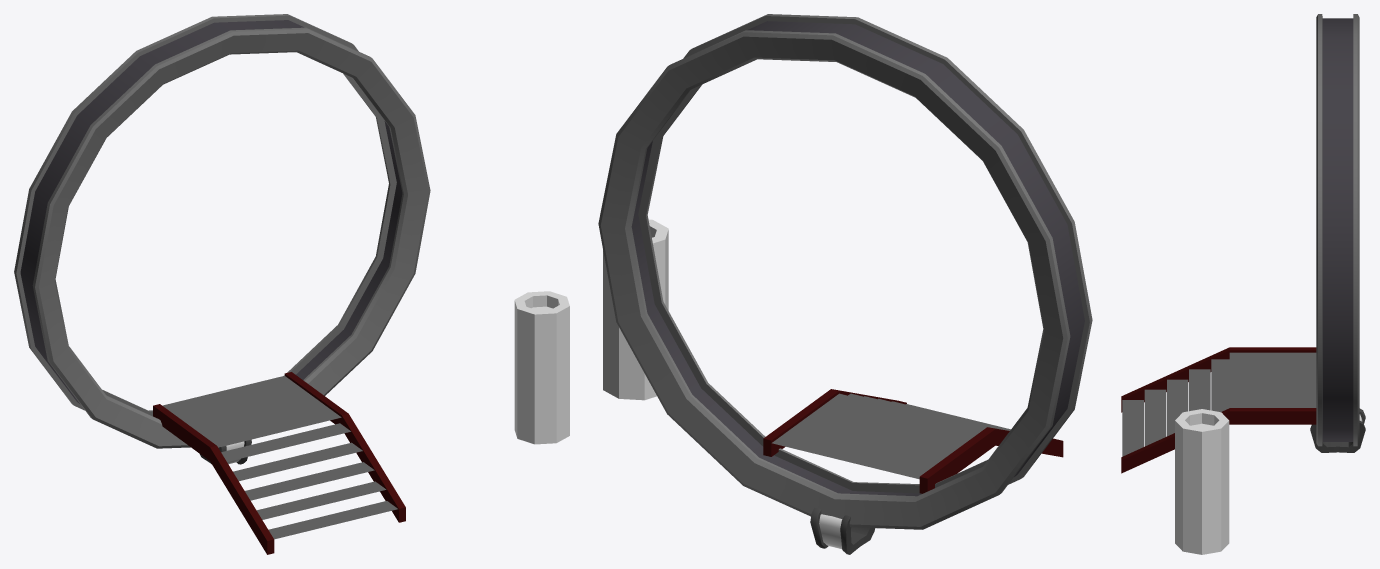
Rendered from Portal.fbx.
3 renders of one model, left to right at view 1: azimuth 30°, elevation 25°; view 2: azimuth 150°, elevation 25°; view 3: azimuth 270°, elevation 25°, orthographic. The views are drawn at different scales.
Visible parts, largest first — view 1: M_Portal, M_Platform, M_ConsoleTerminal; view 2: M_Portal, M_Platform, M_ConsoleTerminal, M_Coil; view 3: M_Portal, M_Platform, M_ConsoleTerminal, M_Coil.
Part boxes in pixels (bbox=[...]): M_Portal: bbox=[14, 14, 430, 448]; M_Platform: bbox=[153, 372, 405, 554]; M_ConsoleTerminal: bbox=[514, 291, 569, 444]; M_Portal: bbox=[598, 14, 1092, 529]; M_Platform: bbox=[763, 389, 1063, 493]; M_ConsoleTerminal: bbox=[603, 219, 668, 400]; M_Coil: bbox=[810, 508, 875, 554]; M_Portal: bbox=[1316, 14, 1359, 446]; M_Platform: bbox=[1121, 347, 1316, 473]; M_ConsoleTerminal: bbox=[1175, 409, 1229, 554]; M_Coil: bbox=[1310, 408, 1365, 452].
Size of the model in its own units: 18.97 by 16.79 by 8.99.
